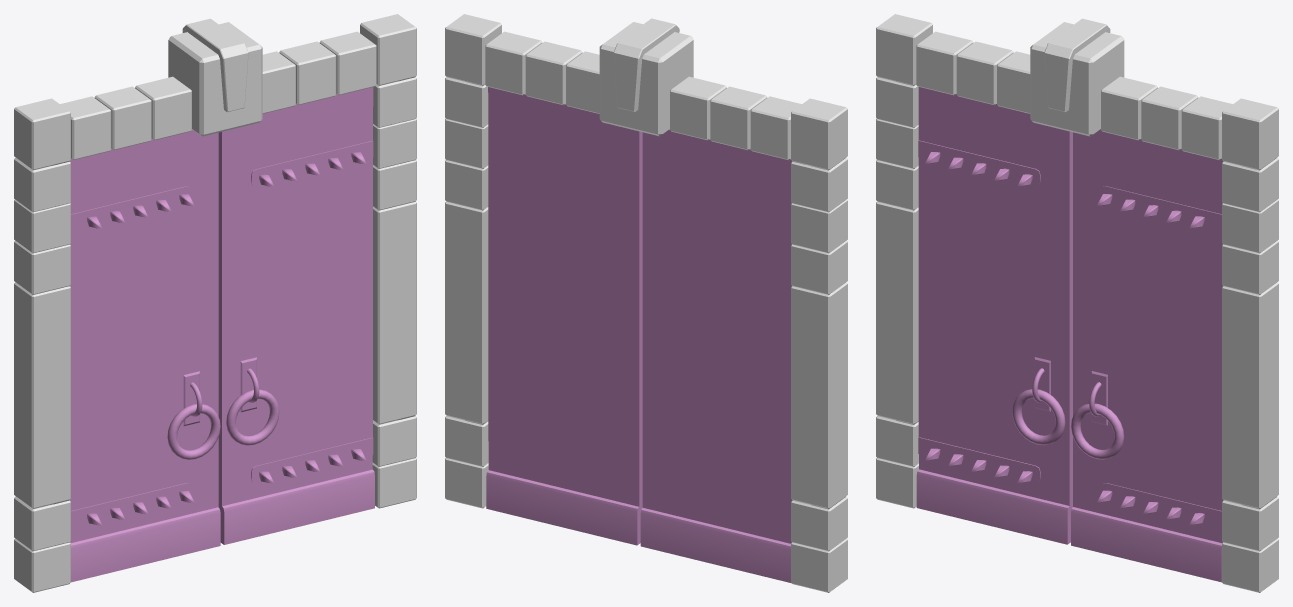
File: porte donjon 1.FBX
3 renders of one model, left to right at view 1: azimuth 30°, elevation 25°; view 2: azimuth 150°, elevation 25°; view 3: azimuth 330°, elevation 25°, orthographic.
Visible parts, largest first — view 1: CadrePorteDJ, PorteDJG001, PorteDJG; view 2: CadrePorteDJ, PorteDJG001, PorteDJG; view 3: CadrePorteDJ, PorteDJG, PorteDJG001.
Boxes of the visible parts, x1,y1,x2,y2 form: CadrePorteDJ: [14, 14, 416, 592]; PorteDJG001: [218, 87, 374, 544]; PorteDJG: [56, 129, 220, 582]; CadrePorteDJ: [445, 14, 847, 592]; PorteDJG001: [486, 87, 642, 545]; PorteDJG: [640, 129, 804, 583]; CadrePorteDJ: [876, 14, 1278, 592]; PorteDJG: [916, 87, 1072, 544]; PorteDJG001: [1071, 129, 1223, 582].
Size of the model in its own units: 151 by 189 by 28.06.
